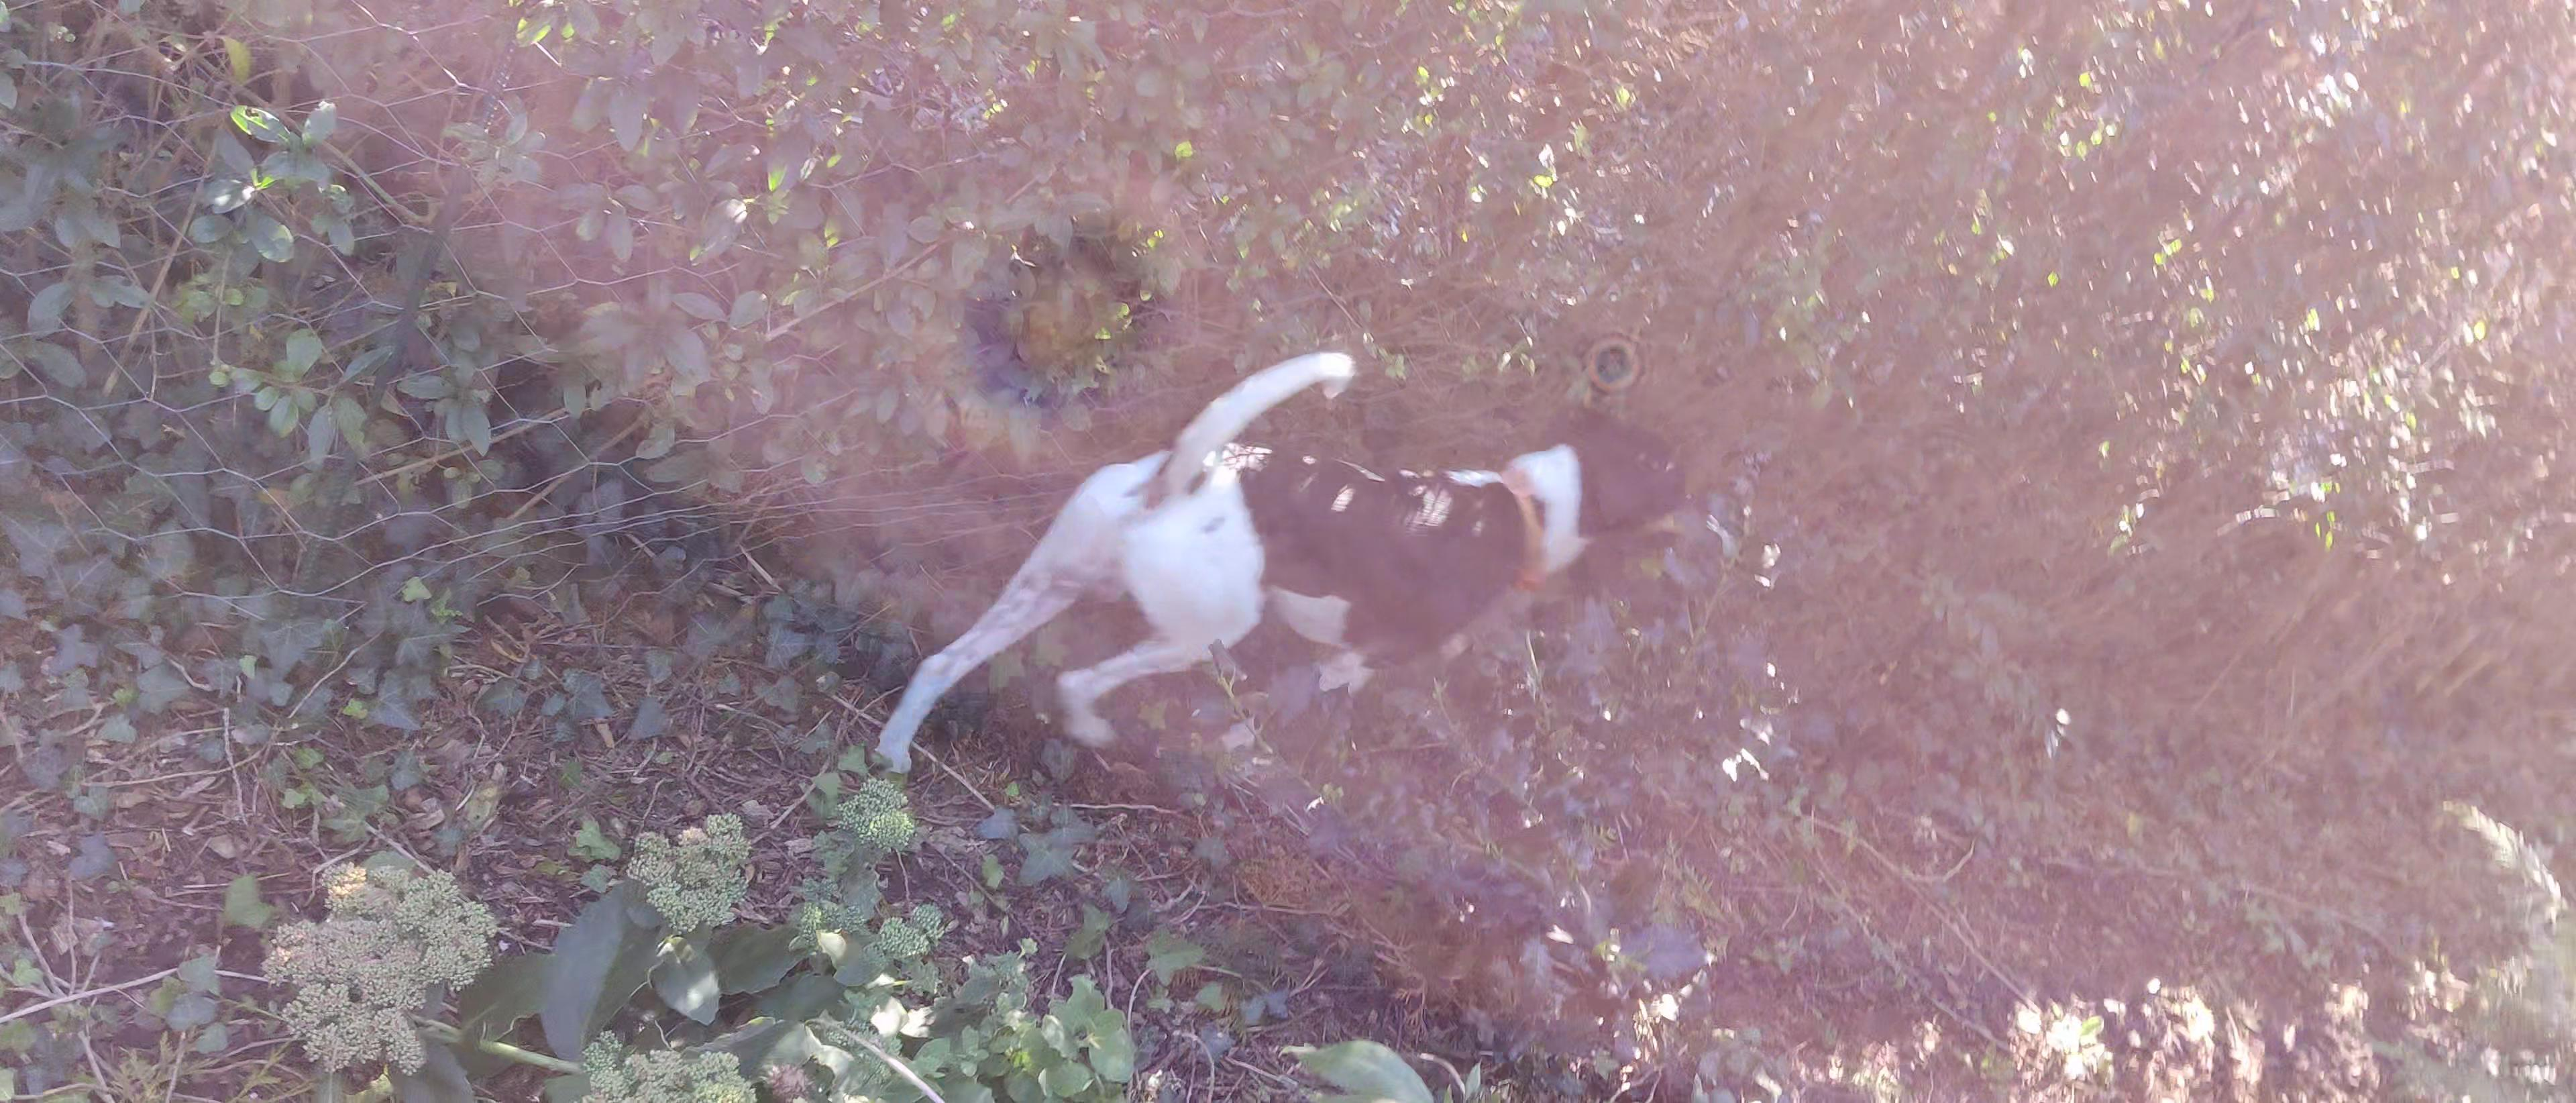Dog: (856, 347, 1687, 784)
